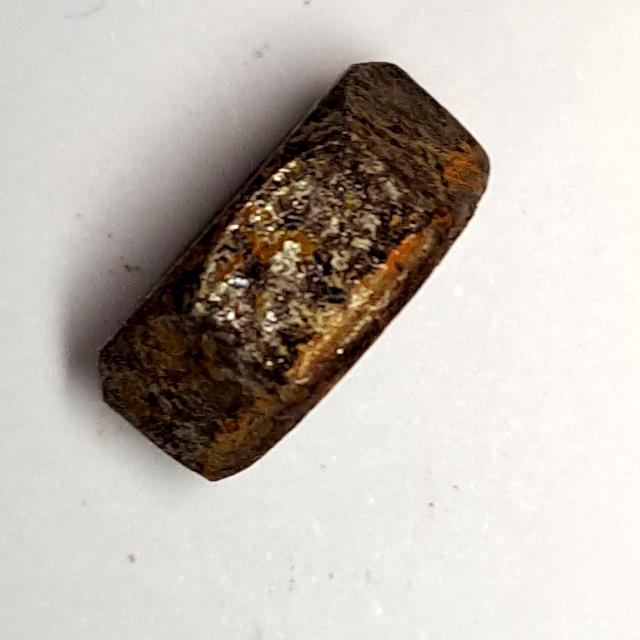Side_Rust: (83, 47, 503, 496)
